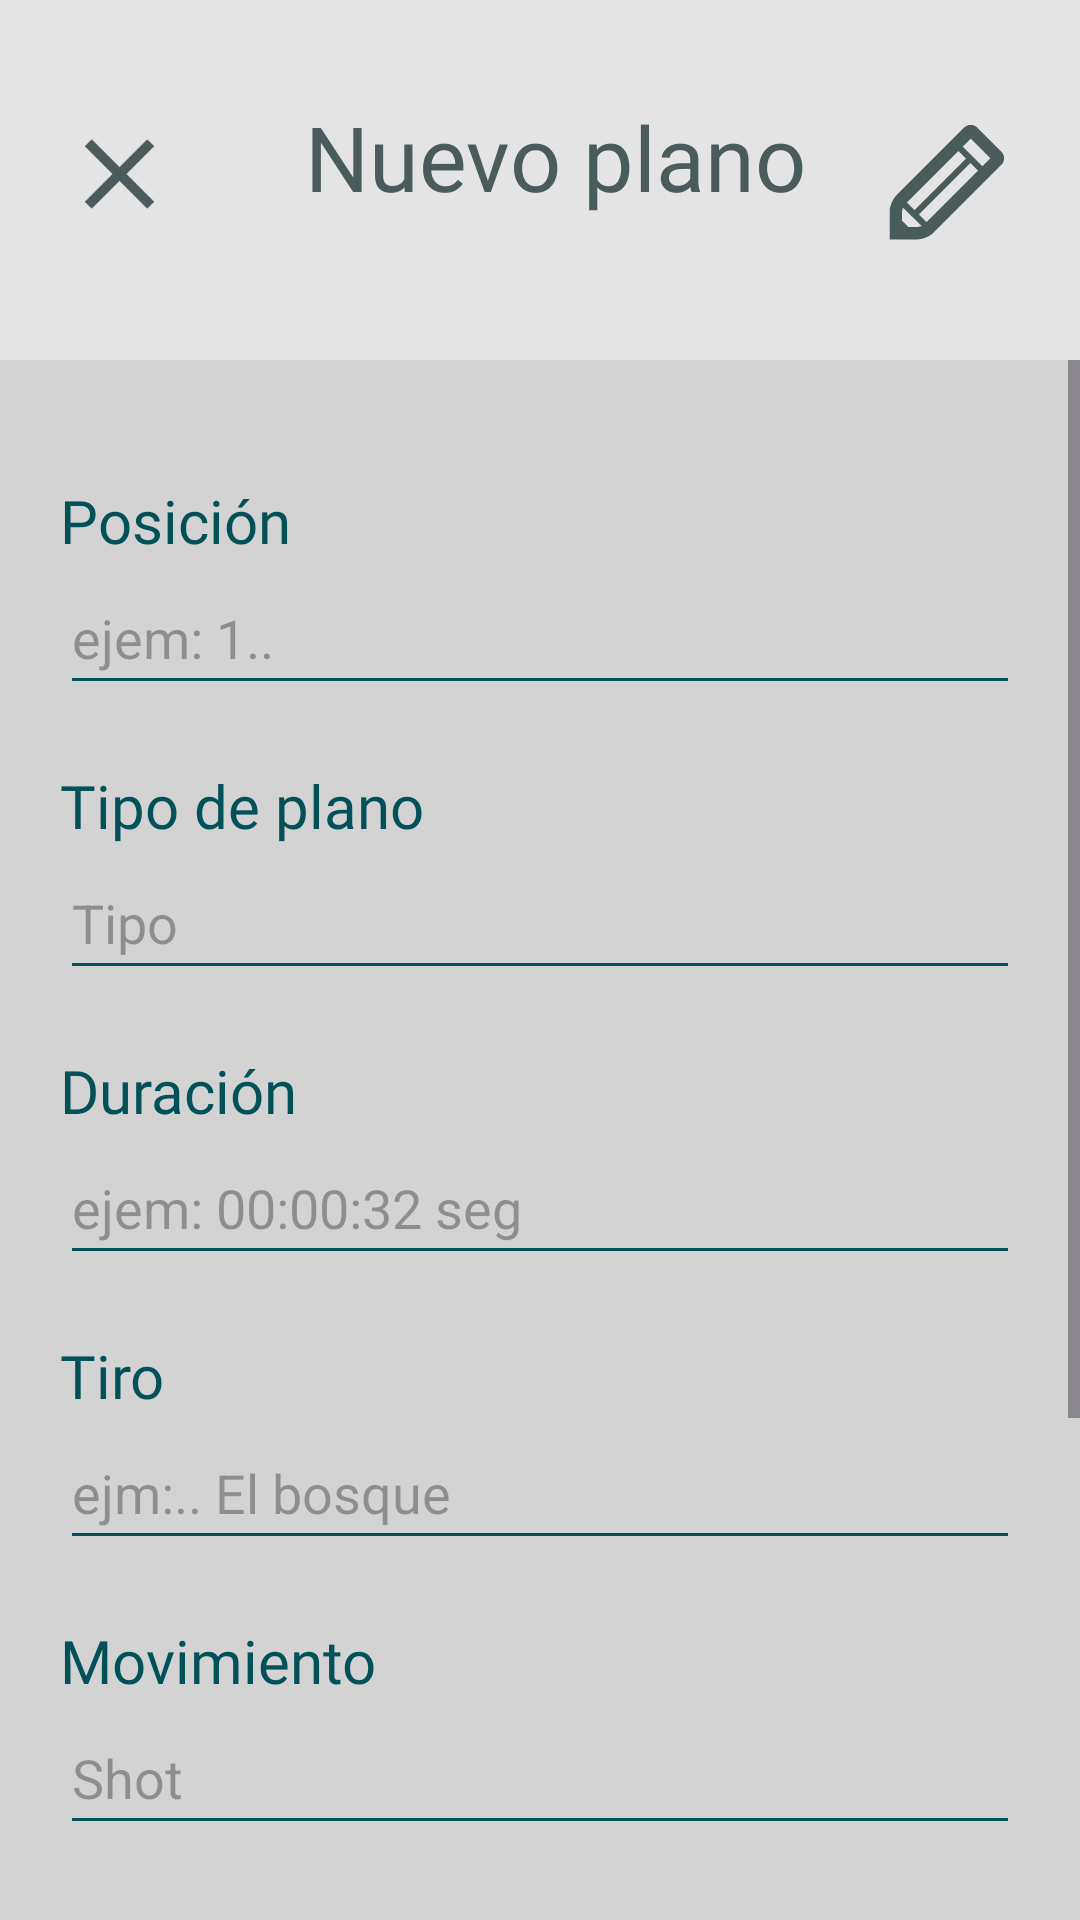

Screen size 1080x1920. Icon name, then its center in pixels as (x=x, y=y):
Editar info del proyecto: (x=946, y=182)
Parra cerrar el formulario: (x=119, y=174)
